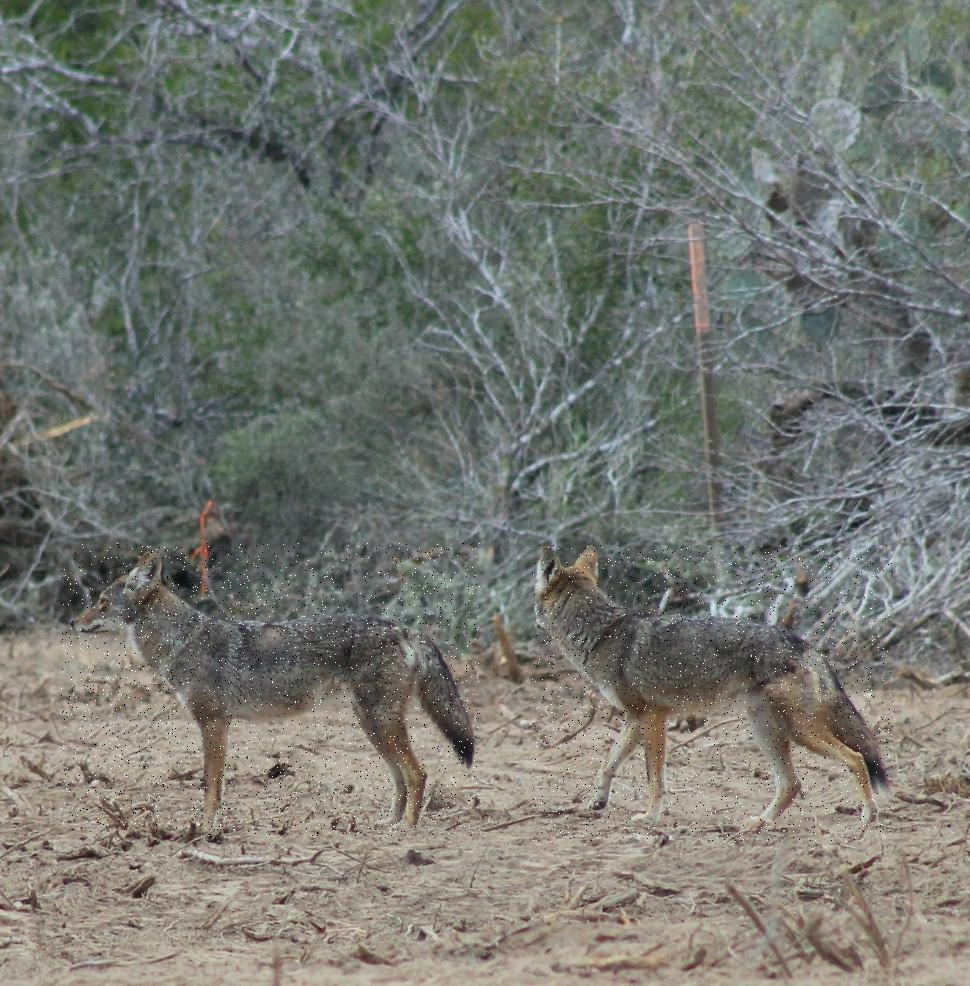Coyote: (61, 543, 480, 836), (531, 546, 892, 843)
